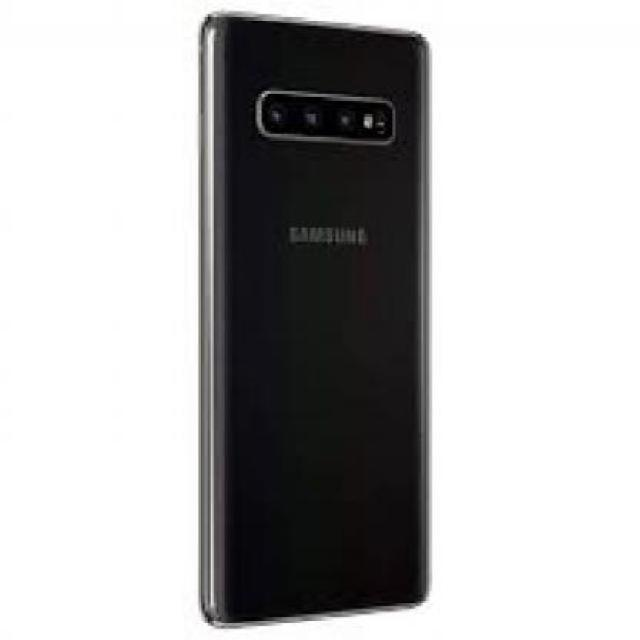phone: (198, 11, 436, 632)
